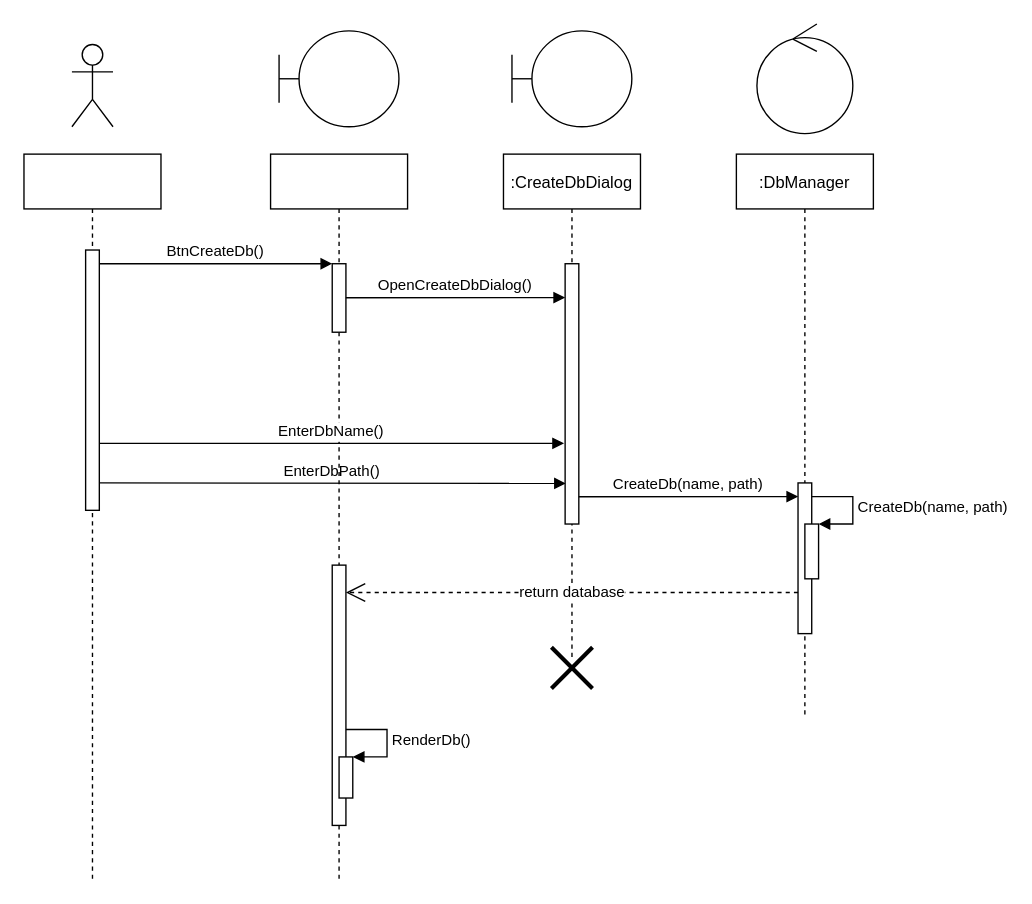
Some shapes in this 1032 by 904 pixel diagram are drawn without their labels. Here are the shapes that lost their labels. From the top down, the box of each, then its label:
(23, 153, 161, 880): :User
(269, 153, 408, 880): :MainMenuForm
